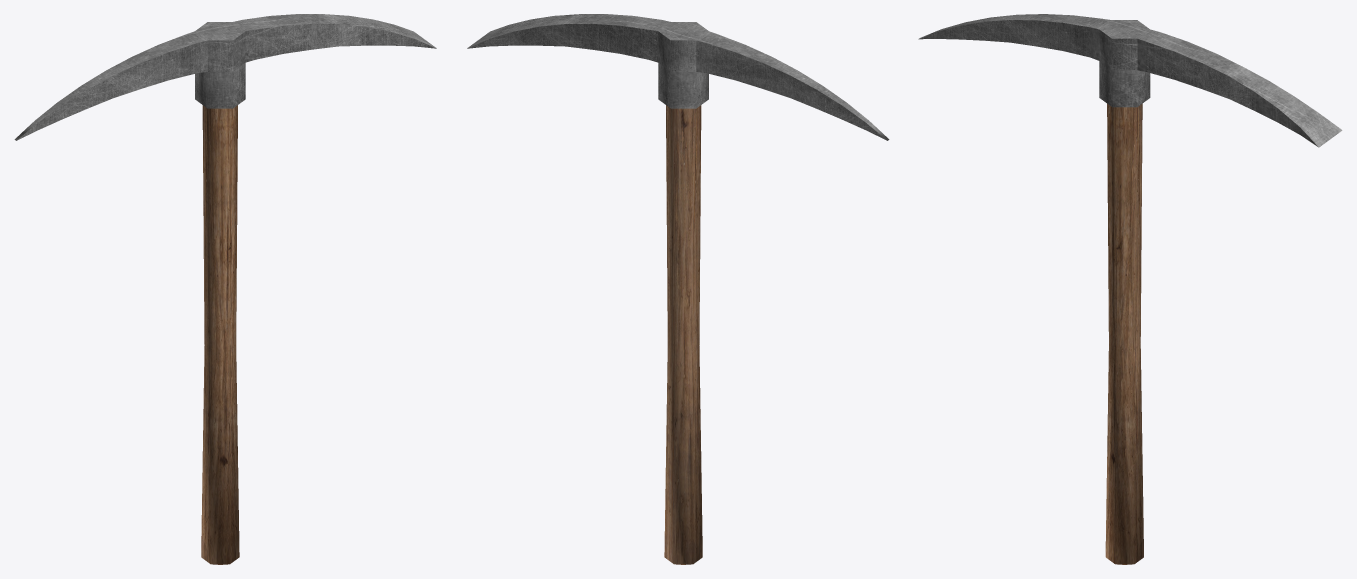
File: pickaxe.fbx
3 renders of one model, left to right at view 1: azimuth 30°, elevation 25°; view 2: azimuth 150°, elevation 25°; view 3: azimuth 330°, elevation 25°, orthographic.
Visible parts, largest first — view 1: Shovel; view 2: Shovel; view 3: Shovel.
Part boxes in pixels (x1,y1,x2,y2): Shovel: (14,14,436,564); Shovel: (467,14,889,564); Shovel: (918,14,1342,564).
Size of the model in its own units: 0.8501 by 1.06 by 0.0911.
